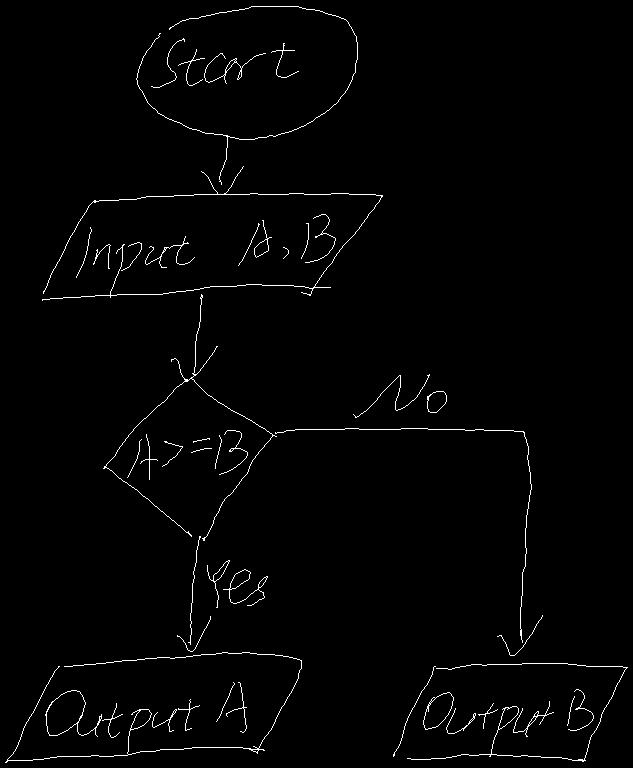arrow: (275, 428, 542, 655), (171, 294, 217, 381), (177, 536, 210, 651), (201, 135, 243, 194)
data: (42, 193, 382, 300), (5, 652, 301, 762), (393, 663, 627, 761)
decision: (103, 377, 276, 540)
terminator: (136, 6, 357, 139)
text: (76, 214, 335, 297), (45, 682, 246, 753), (423, 689, 593, 756), (151, 38, 298, 87), (127, 430, 247, 479), (353, 374, 446, 417), (207, 560, 267, 607)
